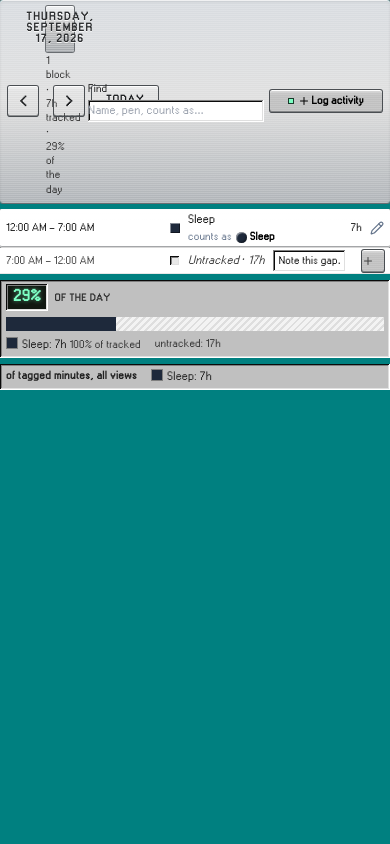
Test: TrackingActivityLog › opens the block editor for a Sleep row
The image size is (390, 844).
Click the text "12:00 AM – 7:00 AM" at (50, 228), box [6,223,94,233]
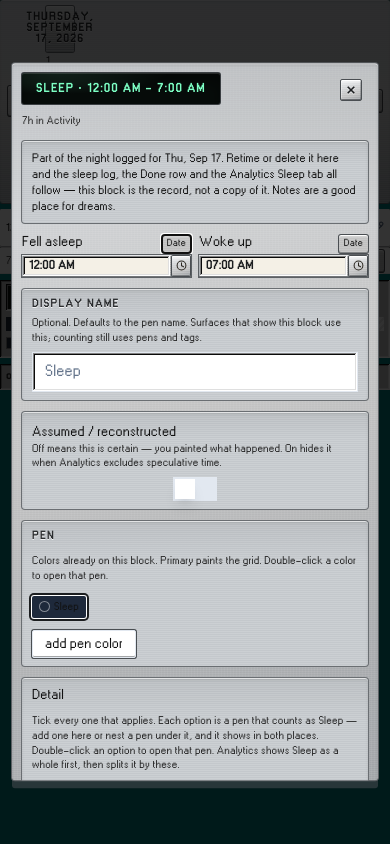
Now the dialog is shown
Now the dropdown labelled "Fell asleep" is shown, box [23,256,170,276]
Now the dropdown labelled "Woke up" is shown, box [200,256,347,276]
